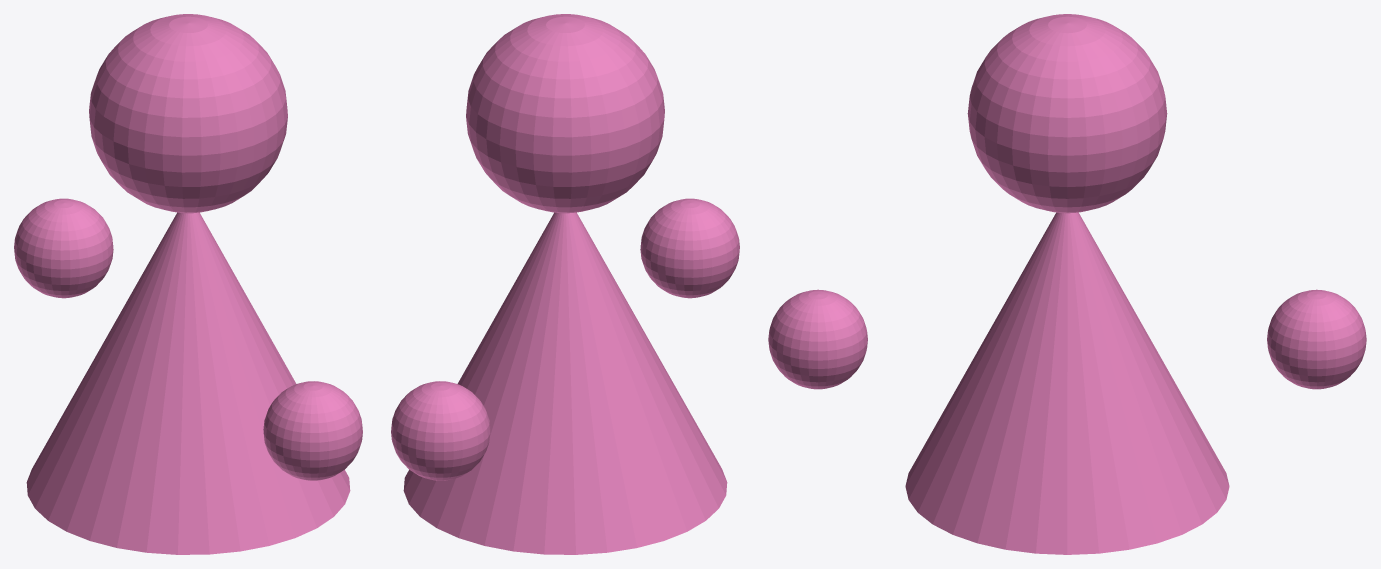
Rendered from Woman.fbx.
The picture shows the model from 3 angles, left to right: view 1: azimuth 30°, elevation 25°; view 2: azimuth 150°, elevation 25°; view 3: azimuth 270°, elevation 25°; orthographic projection.
Visible parts, largest first — view 1: 円錐, 球, 球.002, 球.001; view 2: 円錐, 球, 球.001, 球.002; view 3: 円錐, 球, 球.001, 球.002.
Part boxes in pixels (bbox=[...]): 円錐: bbox=[26, 212, 350, 554]; 球: bbox=[89, 14, 287, 213]; 球.002: bbox=[263, 381, 362, 480]; 球.001: bbox=[14, 198, 113, 298]; 円錐: bbox=[403, 212, 727, 554]; 球: bbox=[466, 14, 664, 213]; 球.001: bbox=[391, 381, 490, 480]; 球.002: bbox=[640, 198, 739, 298]; 円錐: bbox=[905, 212, 1229, 554]; 球: bbox=[967, 14, 1167, 213]; 球.001: bbox=[1267, 289, 1366, 389]; 球.002: bbox=[768, 289, 867, 389].
Bounding box in the file's own units: 260 × 410 × 480.
